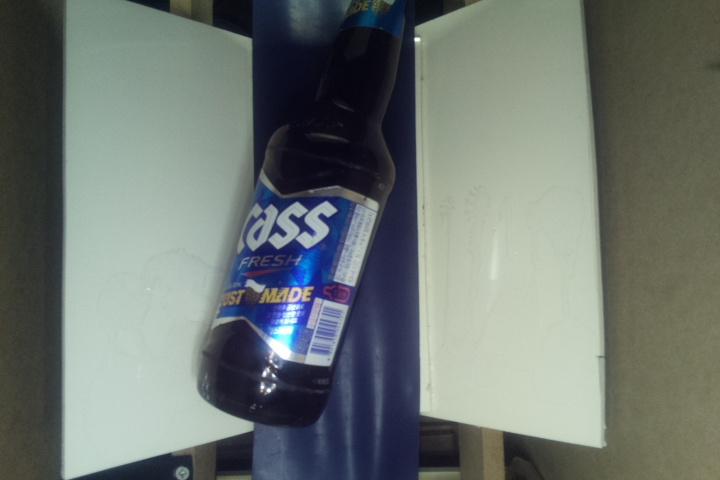makju: (195, 1, 408, 432)
